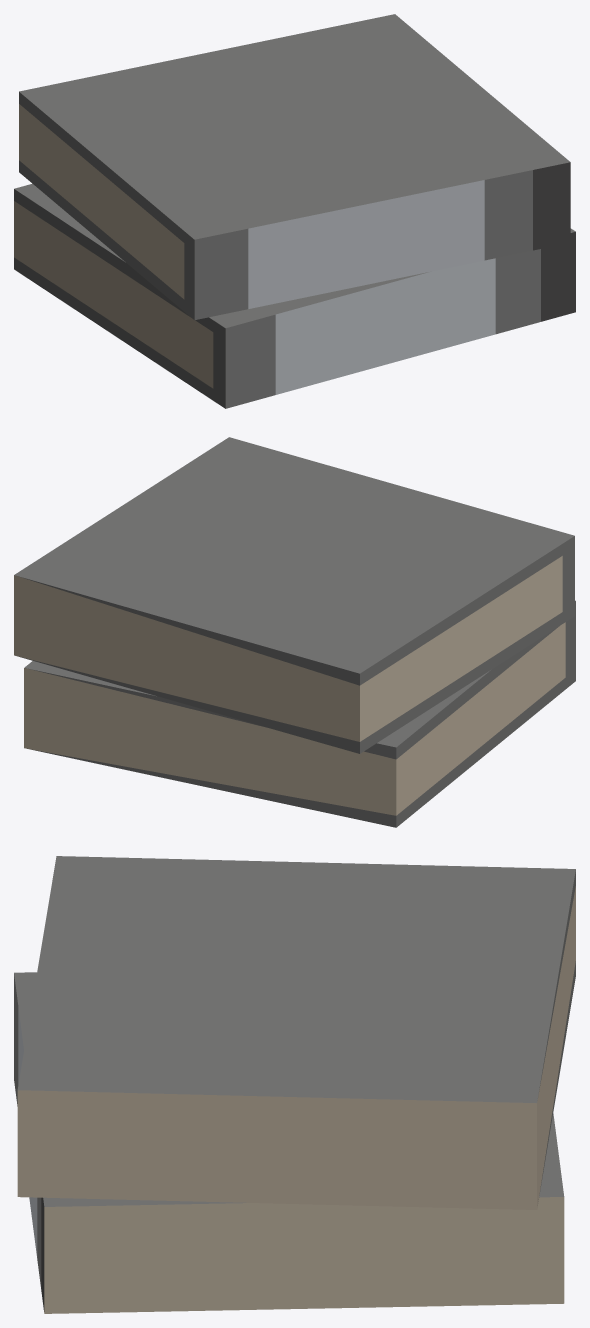
The model's file is SM_Prop_Book_Group_04.fbx.
3 views of the same model, one above another, from view 1: azimuth 30°, elevation 25°; view 2: azimuth 150°, elevation 25°; view 3: azimuth 270°, elevation 25° (orthographic). The views are drawn at different scales.
Visible parts, largest first — view 1: SM_Prop_Book_Group_04; view 2: SM_Prop_Book_Group_04; view 3: SM_Prop_Book_Group_04.
Boxes of the visible parts, x1=… form: SM_Prop_Book_Group_04: x1=14, y1=14, x2=575, y2=408; SM_Prop_Book_Group_04: x1=14, y1=437, x2=575, y2=827; SM_Prop_Book_Group_04: x1=14, y1=856, x2=575, y2=1313.
Size of the model in its own units: 32.27 by 13 by 30.96.
